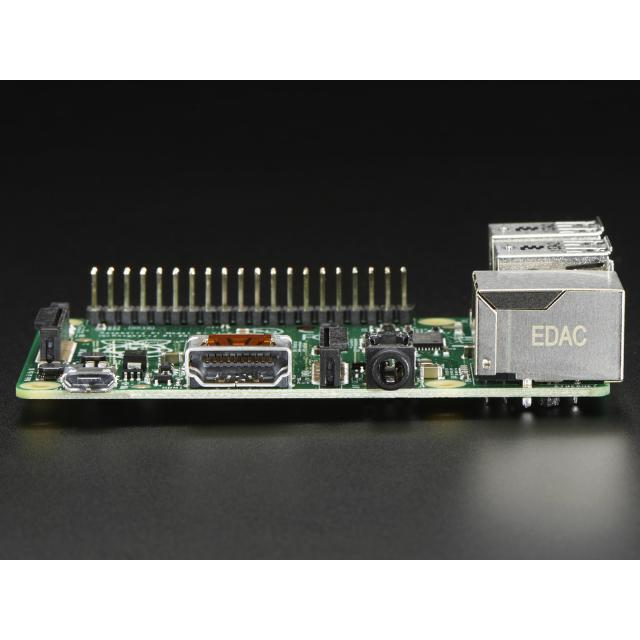Raspberry Pi 1 B-: (17, 219, 625, 410)
